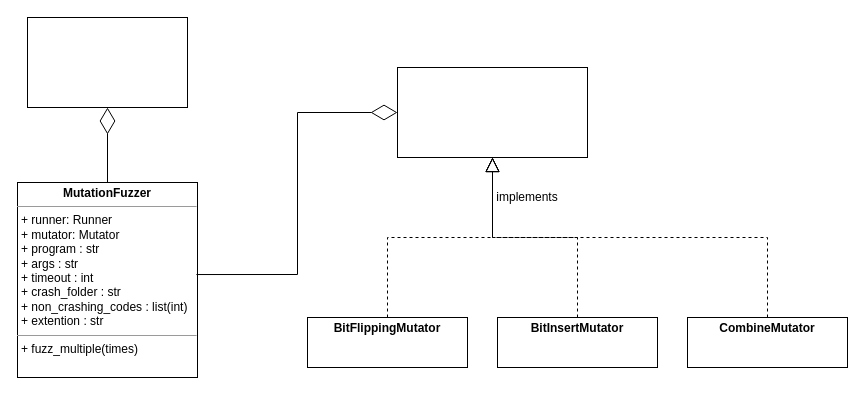
Some shapes in this 865 by 395 pixel diagram are drawn without their labels. The shapes that lost their labels are listed below. From the top down, each one's box as (x1, y1, x2, y2) in pixels, then its label:
(26, 16, 188, 108): Runner + run(): int
(396, 66, 588, 158): <<Interface>> Mutator + mutate(data) : bytes
